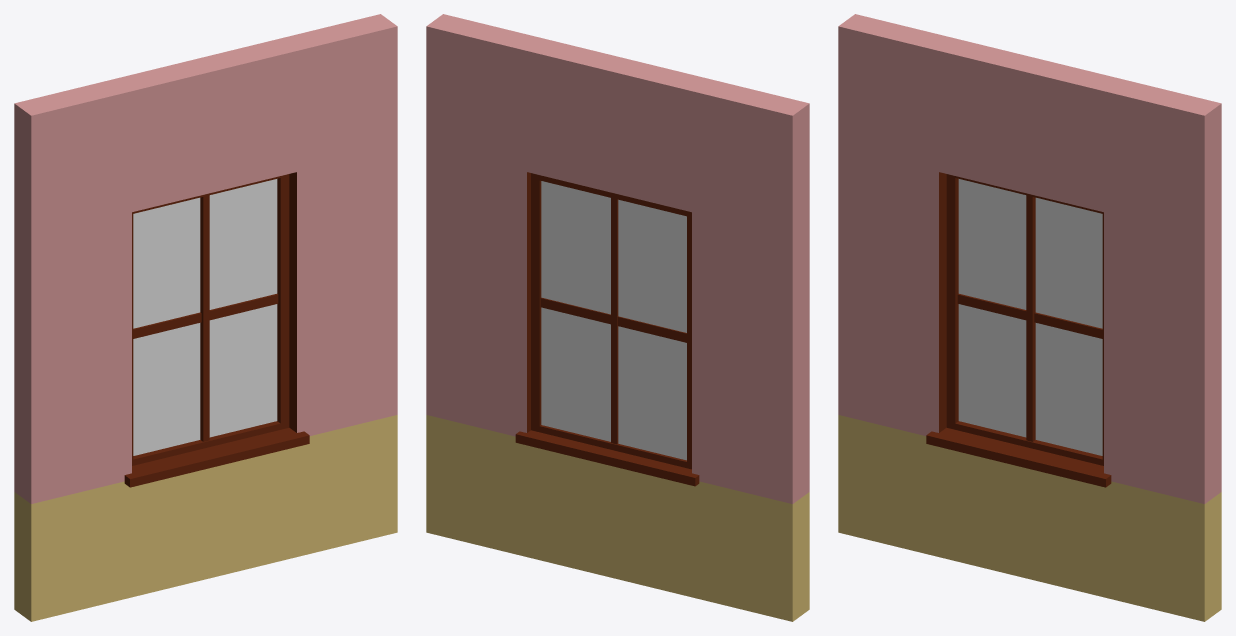
Rendered from wall_window2.fbx.
The picture shows the model from 3 angles, left to right: view 1: azimuth 30°, elevation 25°; view 2: azimuth 150°, elevation 25°; view 3: azimuth 330°, elevation 25°; orthographic projection.
Visible parts, largest first — view 1: wall_window2.001, glass2; view 2: wall_window2.001, glass2; view 3: wall_window2.001, glass2.
Boxes of the visible parts, <box> form: wall_window2.001: <box>14,14,397,621</box>; glass2: <box>133,179,277,455</box>; wall_window2.001: <box>426,14,809,621</box>; glass2: <box>541,181,686,460</box>; wall_window2.001: <box>838,14,1221,621</box>; glass2: <box>958,179,1102,455</box>.
Bounding box in the file's own units: 211 × 279 × 26.33.
